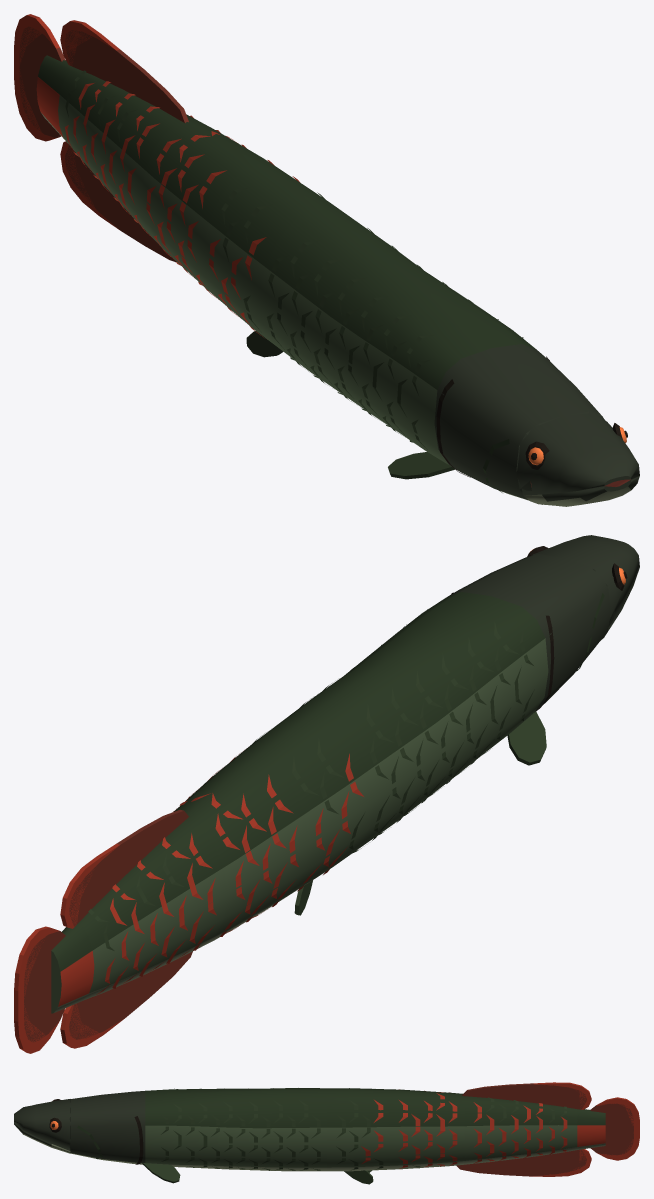
File: legend_arapaima.fbx
3 renders of one model, top to bottom at view 1: azimuth 30°, elevation 25°; view 2: azimuth 150°, elevation 25°; view 3: azimuth 270°, elevation 25°, orthographic. The views are drawn at different scales.
Visible parts, largest first — view 1: geo_Spine.F, geo_Head, geo_Spine.B2, geo_Spine.B1, geo_Spine.B3, geo_Dorsal2, geo_Anal, geo_Tail.Upper, geo_Tail.Lower, geo_Tail, geo_Jaw, geo_Pec.R; view 2: geo_Spine.F, geo_Spine.B3, geo_Spine.B2, geo_Head, geo_Spine.B1, geo_Dorsal2, geo_Anal, geo_Tail, geo_Tail.Upper, geo_Tail.Lower, geo_Pec.R; view 3: geo_Spine.F, geo_Head, geo_Spine.B3, geo_Spine.B2, geo_Spine.B1, geo_Anal, geo_Dorsal2, geo_Tail.Upper, geo_Tail.Lower, geo_Tail, geo_Pec.L, geo_Pel.L (+1 smaller).
Boxes of the visible parts, left/top/right/bottom form: geo_Spine.F: left=260, top=208, right=536, bottom=464; geo_Head: left=434, top=344, right=639, bottom=504; geo_Spine.B2: left=141, top=121, right=275, bottom=299; geo_Spine.B1: left=203, top=165, right=350, bottom=345; geo_Spine.B3: left=58, top=67, right=199, bottom=238; geo_Dorsal2: left=60, top=20, right=188, bottom=122; geo_Anal: left=60, top=141, right=176, bottom=262; geo_Tail.Upper: left=14, top=14, right=65, bottom=79; geo_Tail.Lower: left=14, top=63, right=60, bottom=141; geo_Tail: left=36, top=55, right=73, bottom=142; geo_Jaw: left=524, top=476, right=639, bottom=506; geo_Pec.R: left=388, top=452, right=454, bottom=479; geo_Spine.F: left=280, top=592, right=548, bottom=852; geo_Spine.B3: left=78, top=819, right=227, bottom=1000; geo_Spine.B2: left=173, top=757, right=309, bottom=946; geo_Head: left=447, top=535, right=639, bottom=712; geo_Spine.B1: left=222, top=711, right=373, bottom=898; geo_Dorsal2: left=60, top=809, right=188, bottom=928; geo_Anal: left=60, top=951, right=192, bottom=1048; geo_Tail: left=51, top=923, right=94, bottom=1013; geo_Tail.Upper: left=14, top=926, right=65, bottom=1006; geo_Tail.Lower: left=14, top=982, right=65, bottom=1053; geo_Pec.R: left=507, top=711, right=546, bottom=765; geo_Spine.F: left=145, top=1088, right=326, bottom=1171; geo_Head: left=14, top=1091, right=145, bottom=1164; geo_Spine.B3: left=464, top=1096, right=577, bottom=1164; geo_Spine.B2: left=389, top=1089, right=464, bottom=1169; geo_Spine.B1: left=327, top=1088, right=389, bottom=1171; geo_Anal: left=456, top=1149, right=591, bottom=1176; geo_Dorsal2: left=462, top=1082, right=591, bottom=1109; geo_Tail.Upper: left=590, top=1097, right=639, bottom=1129; geo_Tail.Lower: left=590, top=1129, right=639, bottom=1160; geo_Tail: left=577, top=1109, right=605, bottom=1149; geo_Pec.L: left=142, top=1163, right=180, bottom=1183; geo_Pel.L: left=344, top=1170, right=373, bottom=1184.
Size of the model in its own units: 0.1455 by 0.1681 by 1.
